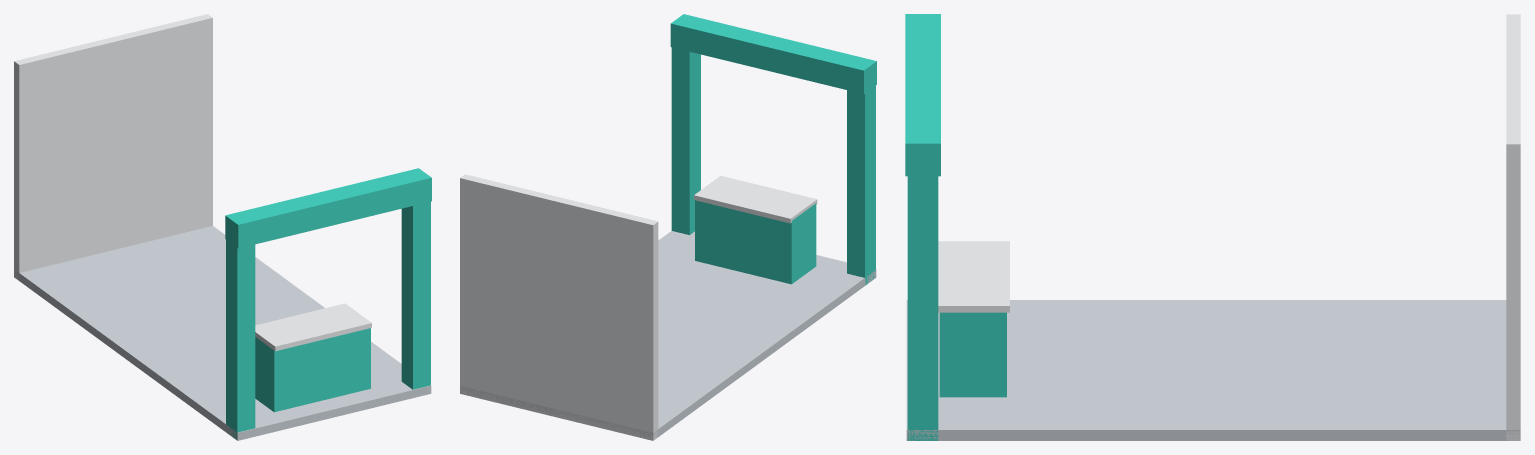
3 renders of one model, left to right at view 1: azimuth 30°, elevation 25°; view 2: azimuth 150°, elevation 25°; view 3: azimuth 270°, elevation 25°, orthographic. The views are drawn at different scales.
Parts seen in each view (by area): view 1: Exhibition Booth Concept; view 2: Exhibition Booth Concept; view 3: Exhibition Booth Concept.
Boxes of the visible parts, x1,y1,x2,y2 form: Exhibition Booth Concept: (14,14,431,440); Exhibition Booth Concept: (460,14,876,440); Exhibition Booth Concept: (905,14,1520,440).
Size of the model in its own units: 3 by 3.2 by 6.02.
